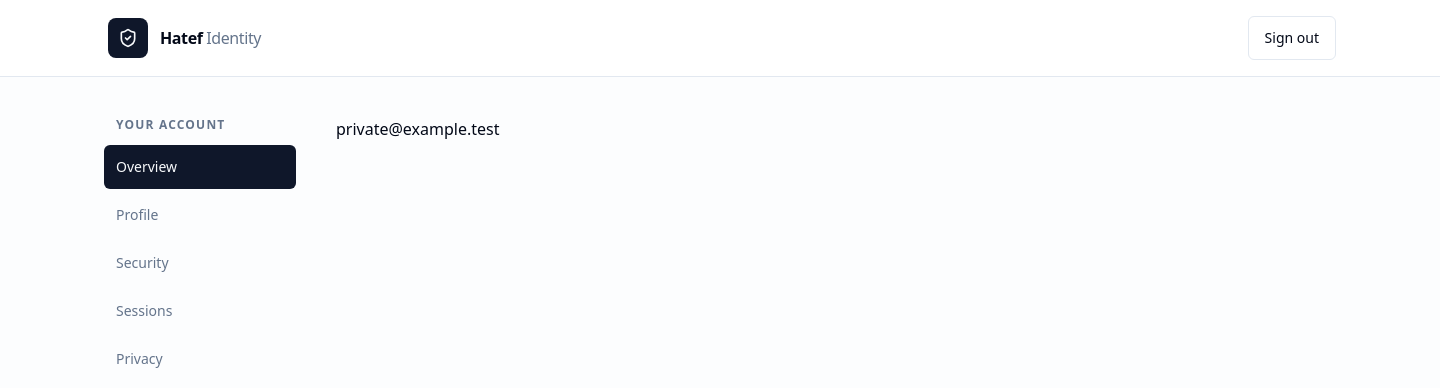
Test: keeps failed logout cleared despite faithful self-echo delivery, foreground events and peer invalidation until explicit reconciliation
Check: the text "private@example.test" is shown, box top-left (336, 118), bottom-right (500, 140)
Click the button "Sign out": coordinates (1292, 38) top-left (1248, 16), bottom-right (1336, 60)
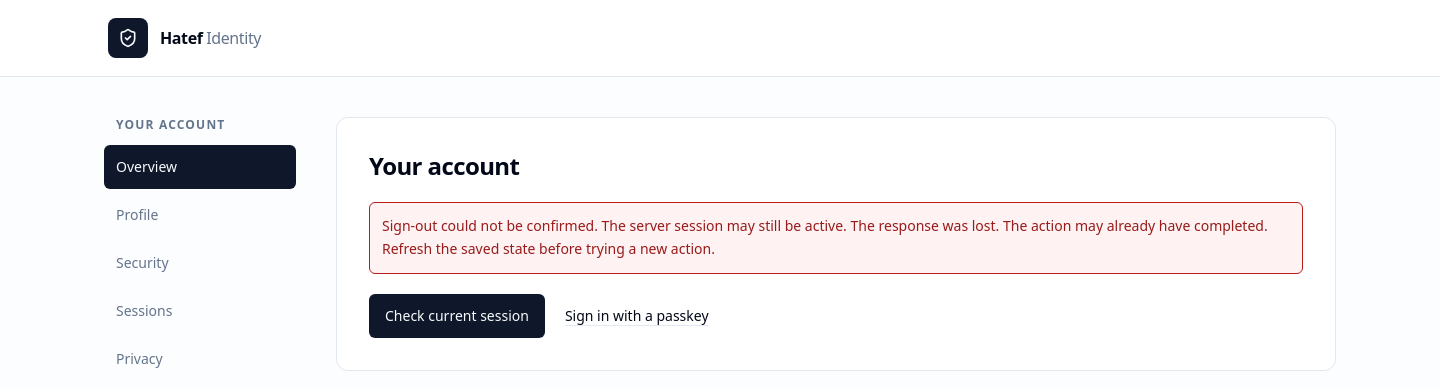
Check: the text "private@example.test" is gone
Check: the message shows "Sign-out could not be confirmed", box top-left (382, 216), bottom-right (1268, 258)
Click the button "Check current session": coordinates (457, 316) top-left (369, 294), bottom-right (545, 338)
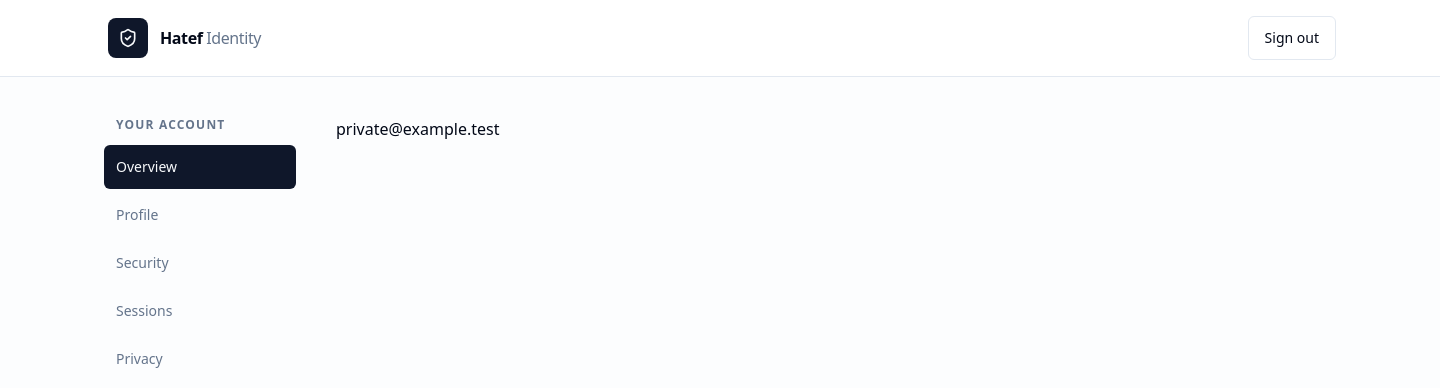
Check: the text "private@example.test" is shown, box top-left (336, 118), bottom-right (500, 140)
